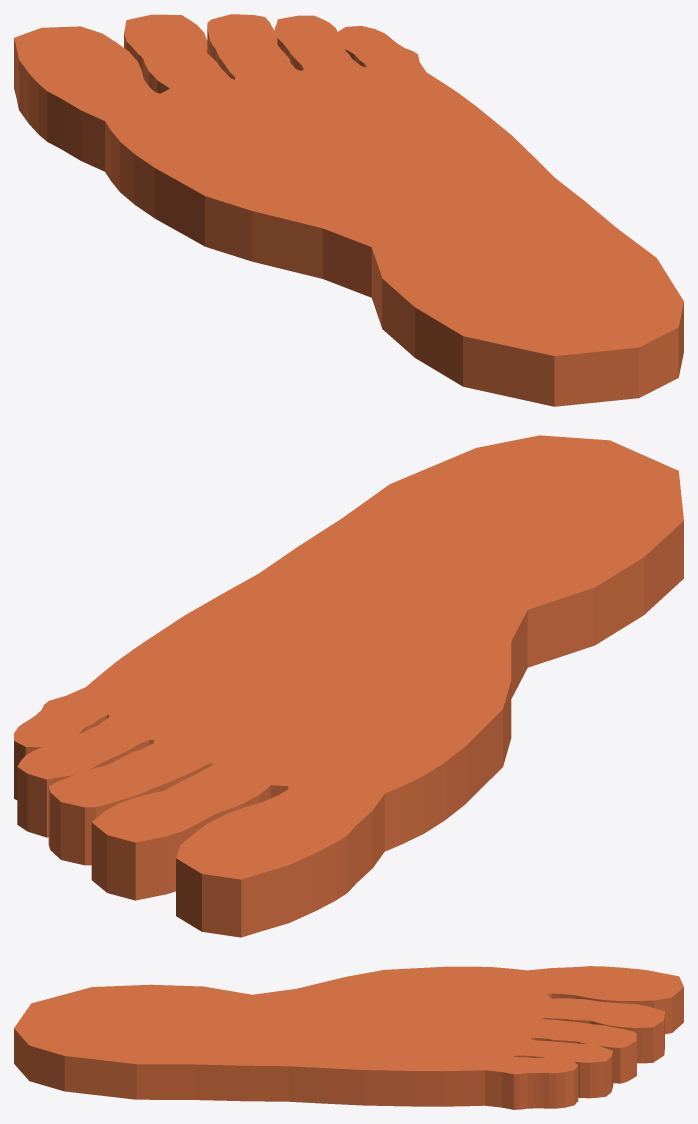
Rendered from Pie.glb.
3 renders of one model, top to bottom at view 1: azimuth 30°, elevation 25°; view 2: azimuth 150°, elevation 25°; view 3: azimuth 270°, elevation 25°, orthographic. The views are drawn at different scales.
Parts seen in each view (by area): view 1: m_la01.281, m_la01.247, m_la01.246, m_la01.248, m_la01.188, m_la01.276, m_la01.249, m_la01.240, m_la01.285, m_la01.250, m_la01.282, m_la01.277 (+41 smaller); view 2: m_la01.281, m_la01.246, m_la01.248, m_la01.188, m_la01.276, m_la01.244, m_la01.259, m_la01.285, m_la01.247, 02, m_la01.250, m_la01.282 (+49 smaller); view 3: m_la01.186, m_la01.286, m_la01.281, m_la01.248, m_la01.278, m_la01.188, m_la01.249, m_la01.245, m_la01.239, m_la01.285, m_la01.247, m_la01.180 (+55 smaller).
Boxes of the visible parts, left/top/right/bottom form: m_la01.281: left=252, top=172, right=434, bottom=297; m_la01.247: left=463, top=323, right=638, bottom=406; m_la01.246: left=382, top=268, right=488, bottom=386; m_la01.248: left=435, top=254, right=604, bottom=332; m_la01.188: left=512, top=237, right=649, bottom=322; m_la01.276: left=135, top=122, right=241, bottom=232; m_la01.249: left=605, top=293, right=683, bottom=397; m_la01.240: left=205, top=176, right=291, bottom=261; m_la01.285: left=370, top=166, right=492, bottom=231; m_la01.250: left=21, top=38, right=125, bottom=86; m_la01.282: left=424, top=162, right=543, bottom=218; m_la01.277: left=187, top=104, right=295, bottom=160; m_la01.281: left=353, top=592, right=527, bottom=698; m_la01.246: left=541, top=514, right=683, bottom=645; m_la01.248: left=464, top=468, right=641, bottom=570; m_la01.188: left=387, top=465, right=572, bottom=546; m_la01.276: left=339, top=714, right=485, bottom=819; m_la01.244: left=456, top=571, right=594, bottom=667; m_la01.259: left=176, top=845, right=267, bottom=937; m_la01.285: left=309, top=575, right=454, bottom=653; m_la01.247: left=573, top=440, right=683, bottom=520; 02: left=288, top=771, right=424, bottom=851; m_la01.250: left=194, top=815, right=331, bottom=868; m_la01.282: left=264, top=559, right=389, bottom=633; m_la01.186: left=64, top=1050, right=194, bottom=1099; m_la01.286: left=244, top=1052, right=333, bottom=1103; m_la01.281: left=252, top=977, right=360, bottom=1022; m_la01.248: left=61, top=997, right=199, bottom=1027; m_la01.278: left=392, top=1051, right=476, bottom=1106; m_la01.188: left=61, top=1023, right=193, bottom=1050; m_la01.249: left=14, top=1028, right=87, bottom=1091; m_la01.245: left=193, top=1051, right=246, bottom=1101; m_la01.239: left=327, top=1051, right=371, bottom=1105; m_la01.285: left=251, top=1016, right=359, bottom=1038; m_la01.247: left=14, top=987, right=99, bottom=1029; m_la01.180: left=364, top=1051, right=409, bottom=1105.
Size of what is drawn, in the model's own units: 0.8457 by 0.1295 by 2.21.
